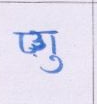aa_matra: (50, 35, 56, 55)
